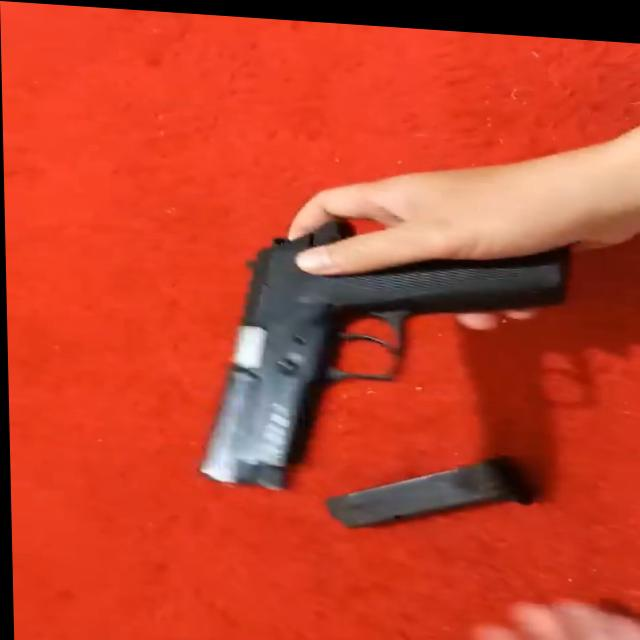handgun: (182, 207, 569, 505)
